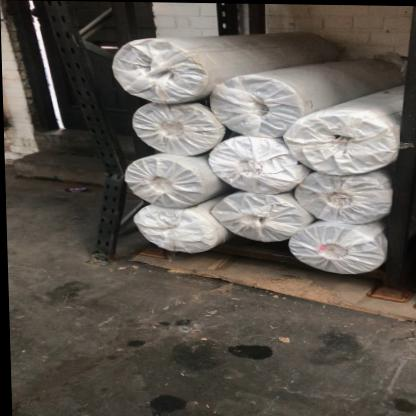vertical_damage: (71, 104, 140, 228)
